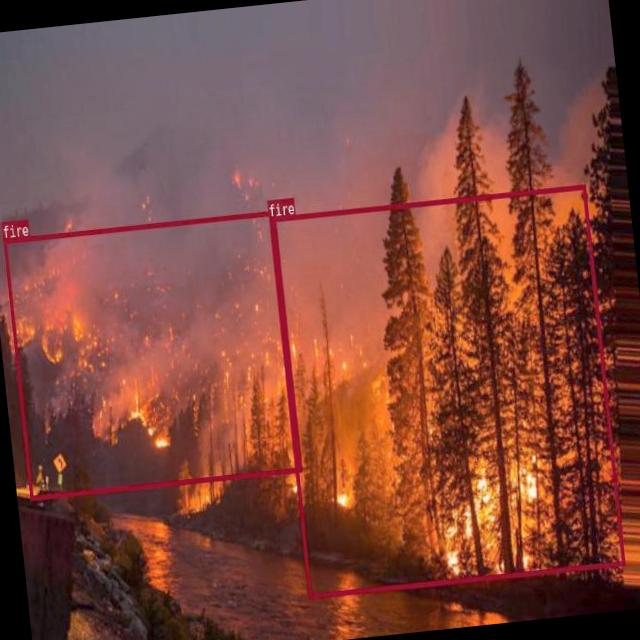fire: (268, 183, 624, 598), (2, 210, 301, 499)
